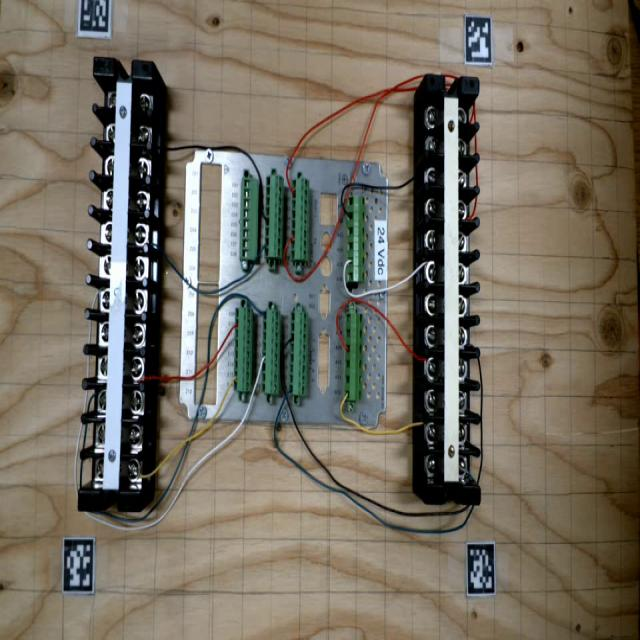Flathead_Block: (425, 75, 481, 505)
Phillips_Block: (78, 57, 156, 513)
Terminal_1: (344, 313, 364, 401), (346, 197, 365, 282)
Terminal_2: (289, 311, 308, 396), (265, 174, 284, 259), (234, 307, 253, 391), (261, 310, 280, 394), (291, 177, 309, 261)
